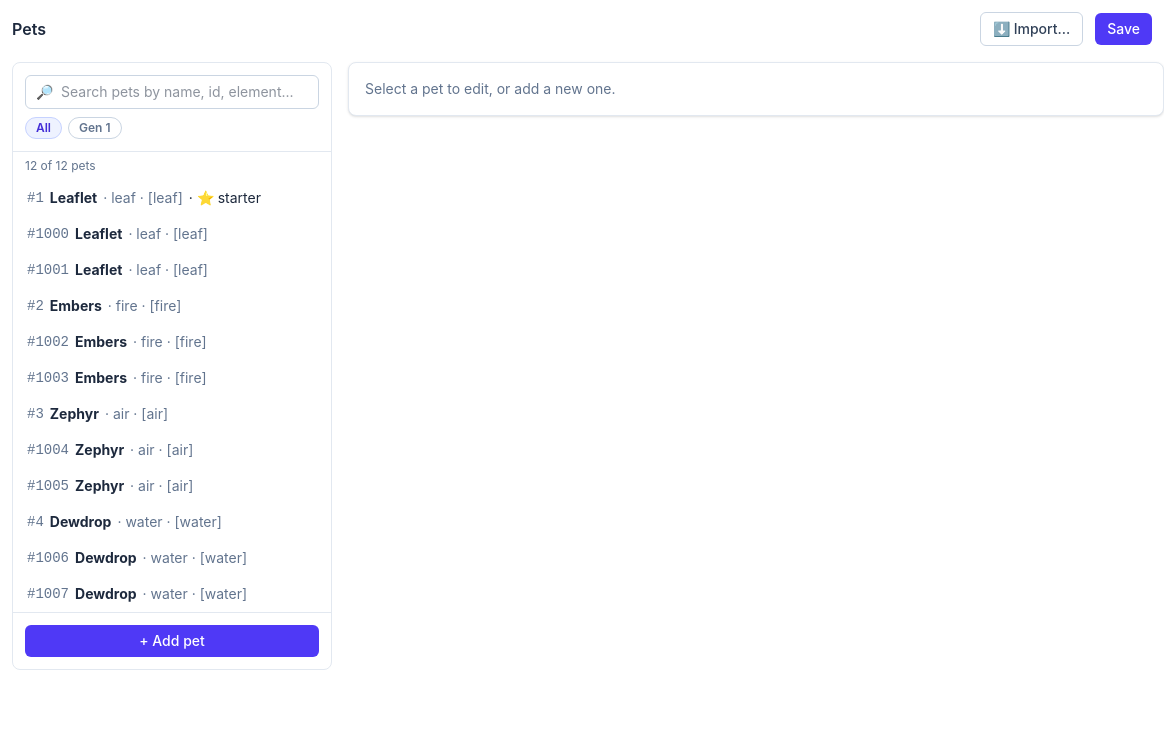
PetsTab — list + save › leaves the live registry unchanged when savePetDefs rejects
Expected: the button "+ Add pet" is shown, x1=25 y1=625 x2=319 y2=657
Click the button "Save": [1124, 29] box x1=1095 y1=13 x2=1152 y2=45
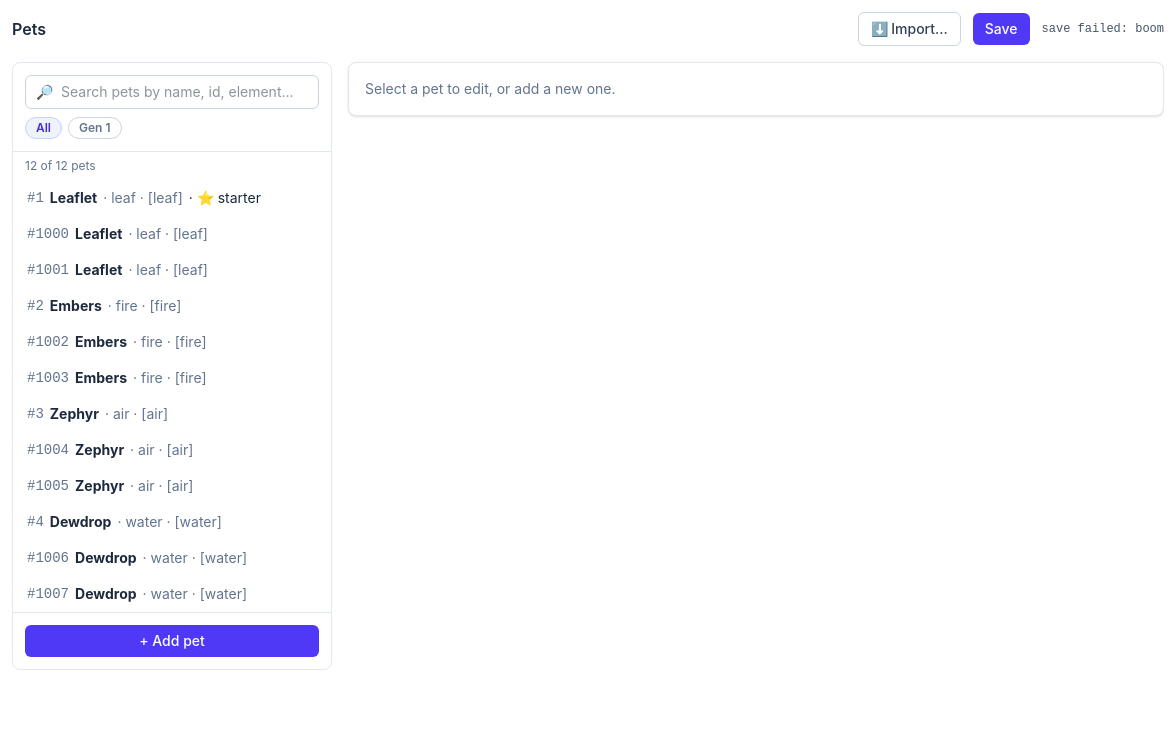
Expected: the text "save failed: boom" is shown, x1=1042 y1=21 x2=1164 y2=37
